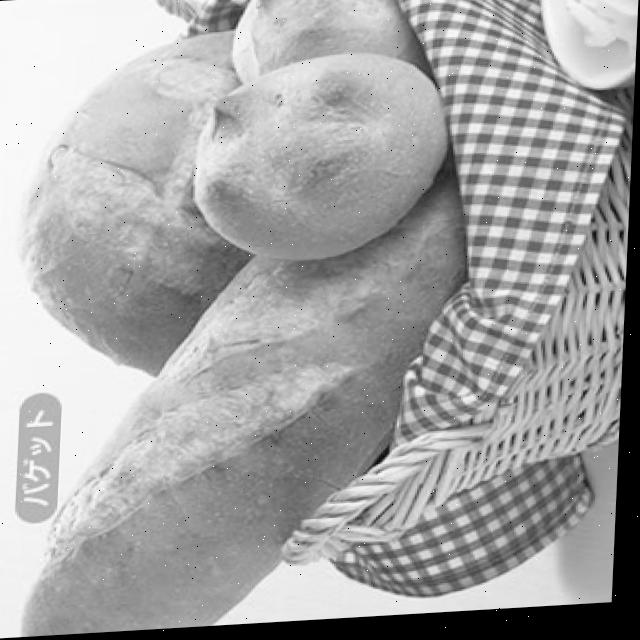面包点心: (0, 0, 618, 639)
